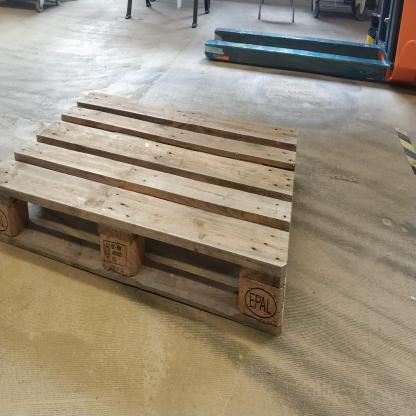BoxFace: (1, 85, 300, 346)
